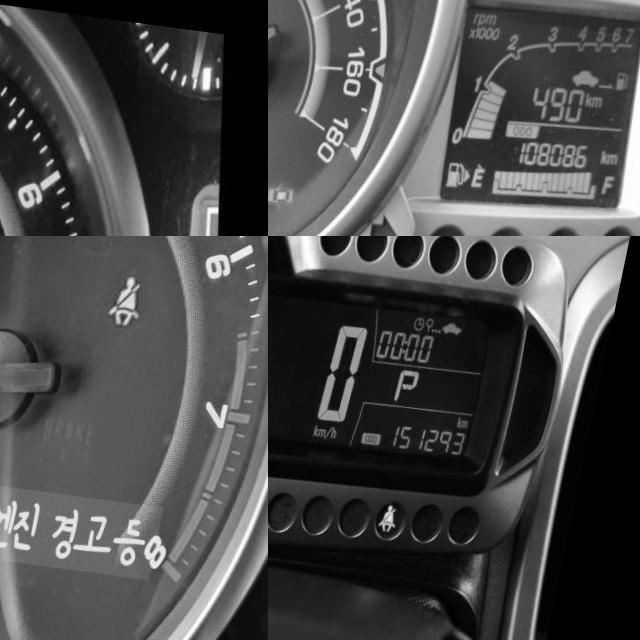Doors: (279, 172, 312, 203)
